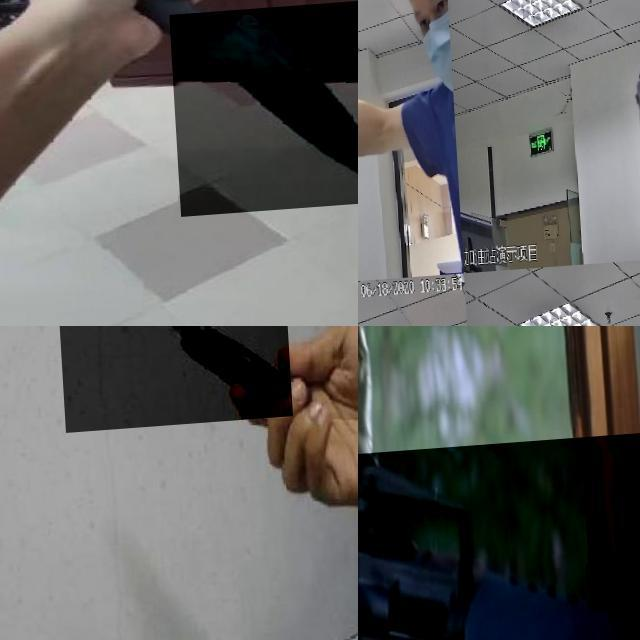-: (166, 3, 358, 220), (53, 326, 288, 437)
gun-knife-thesis - v11 Yolov5 augmented: (358, 435, 640, 640), (358, 108, 391, 277), (625, 66, 640, 243)
